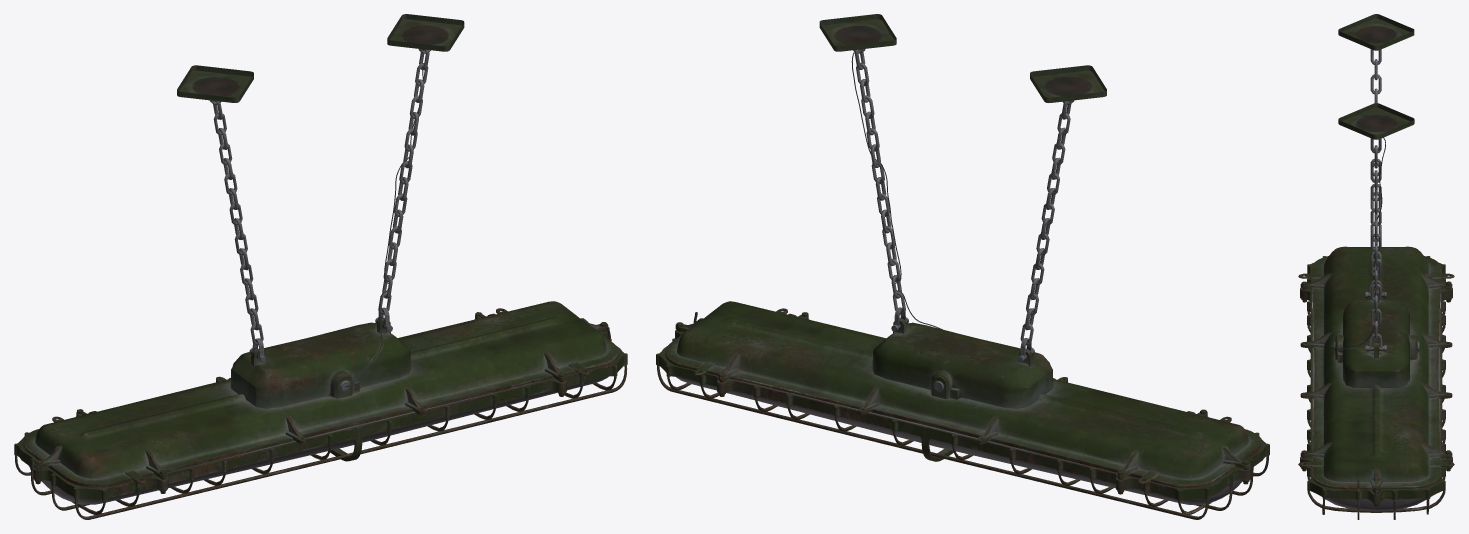
Rendered from caged-hanging-light.glb.
3 views of the same model, side by side, from view 1: azimuth 30°, elevation 25°; view 2: azimuth 150°, elevation 25°; view 3: azimuth 270°, elevation 25° (orthographic). The views are drawn at different scales.
Parts seen in each view (by area): view 1: caged_hanging_light; view 2: caged_hanging_light; view 3: caged_hanging_light.
Part boxes in pixels (left/top/right/bottom): caged_hanging_light: left=14, top=14, right=627, bottom=519; caged_hanging_light: left=656, top=14, right=1269, bottom=519; caged_hanging_light: left=1298, top=14, right=1454, bottom=519.
Size of the model in its own units: 1.16 by 0.7501 by 0.3149.
1 material, 1 textured.
